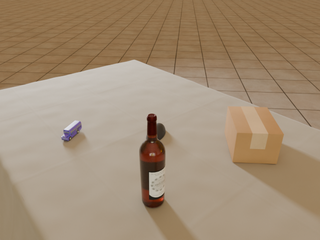bottle: (139, 114, 165, 208)
box: (225, 106, 284, 164)
mouse: (146, 123, 165, 140)
toy_car: (61, 121, 82, 141)
